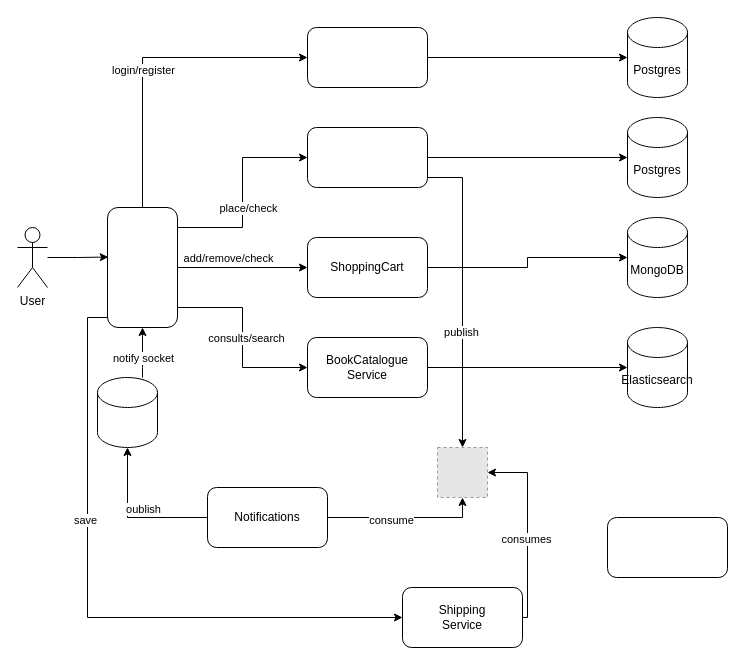
This 745x665 diagram has some shape labels left out. Grey dashed boxes stand in for pictures. Here are the shapes that lost their labels. From the top down, the box of each, then its label:
(306, 26, 428, 88): Users Service
(306, 126, 428, 188): Orders Service
(106, 206, 178, 328): Mobile app
(96, 376, 158, 448): redis
(606, 516, 728, 578): Payment Service
